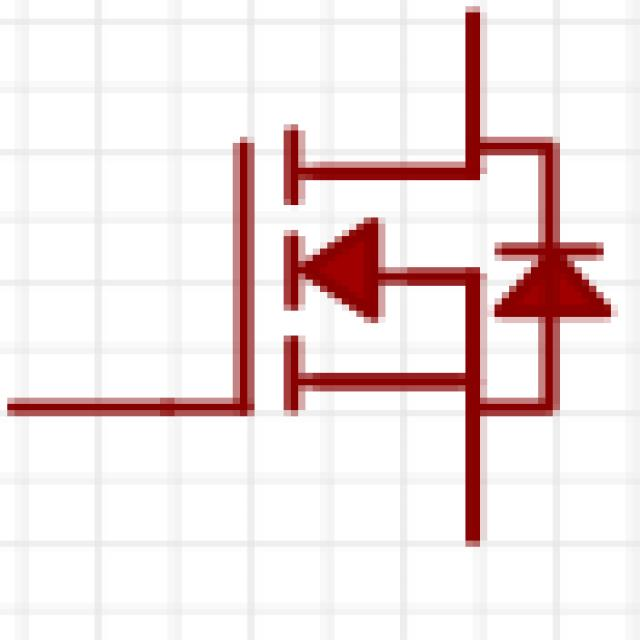nmos: (26, 26, 630, 560)
